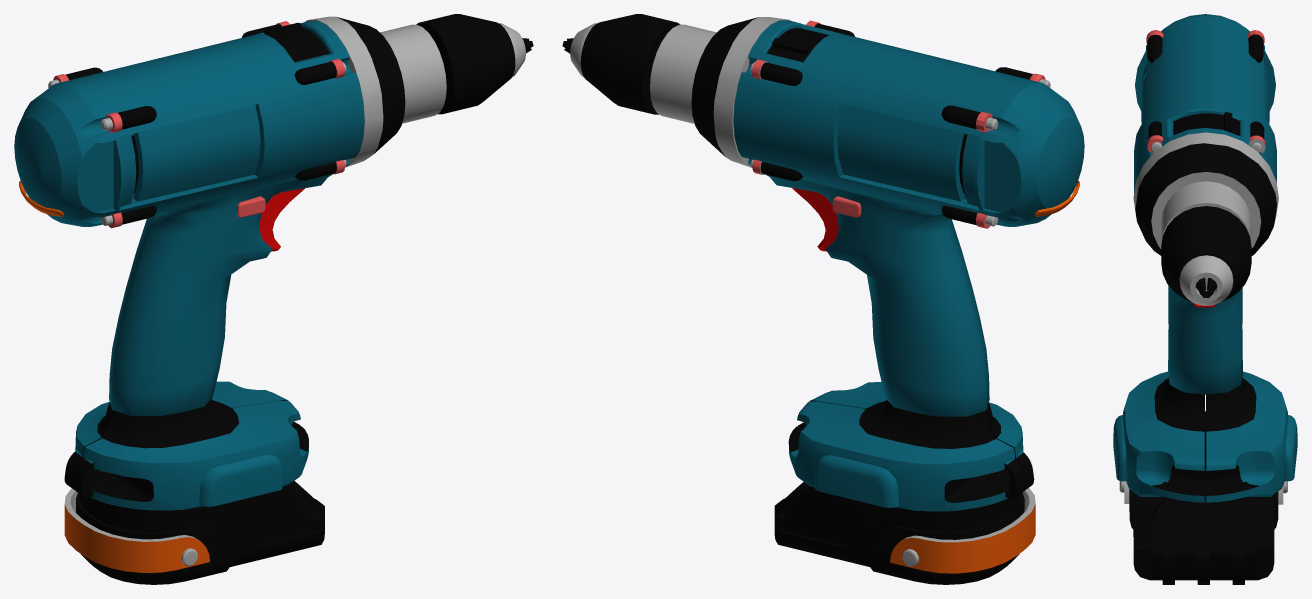
The model's file is DianDongBanShou.fbx.
The picture shows the model from 3 angles, left to right: view 1: azimuth 30°, elevation 25°; view 2: azimuth 150°, elevation 25°; view 3: azimuth 270°, elevation 25°; orthographic projection. The views are drawn at different scales.
Parts seen in each view (by area): view 1: DianDongBanShou; view 2: DianDongBanShou; view 3: DianDongBanShou.
Part boxes in pixels (<box>): DianDongBanShou: <box>14,14,533,584</box>; DianDongBanShou: <box>562,14,1084,584</box>; DianDongBanShou: <box>1113,14,1297,584</box>.
Bounding box in the file's own units: 26.84 × 25.13 × 8.95.
